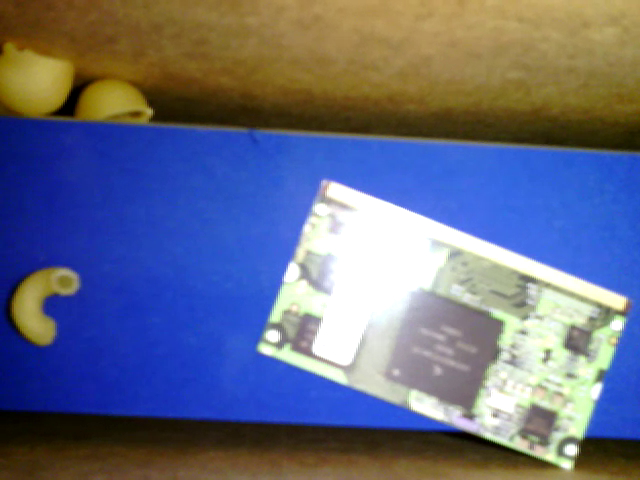elbow: (12, 267, 79, 345)
shell: (1, 42, 76, 117), (74, 78, 151, 122)
